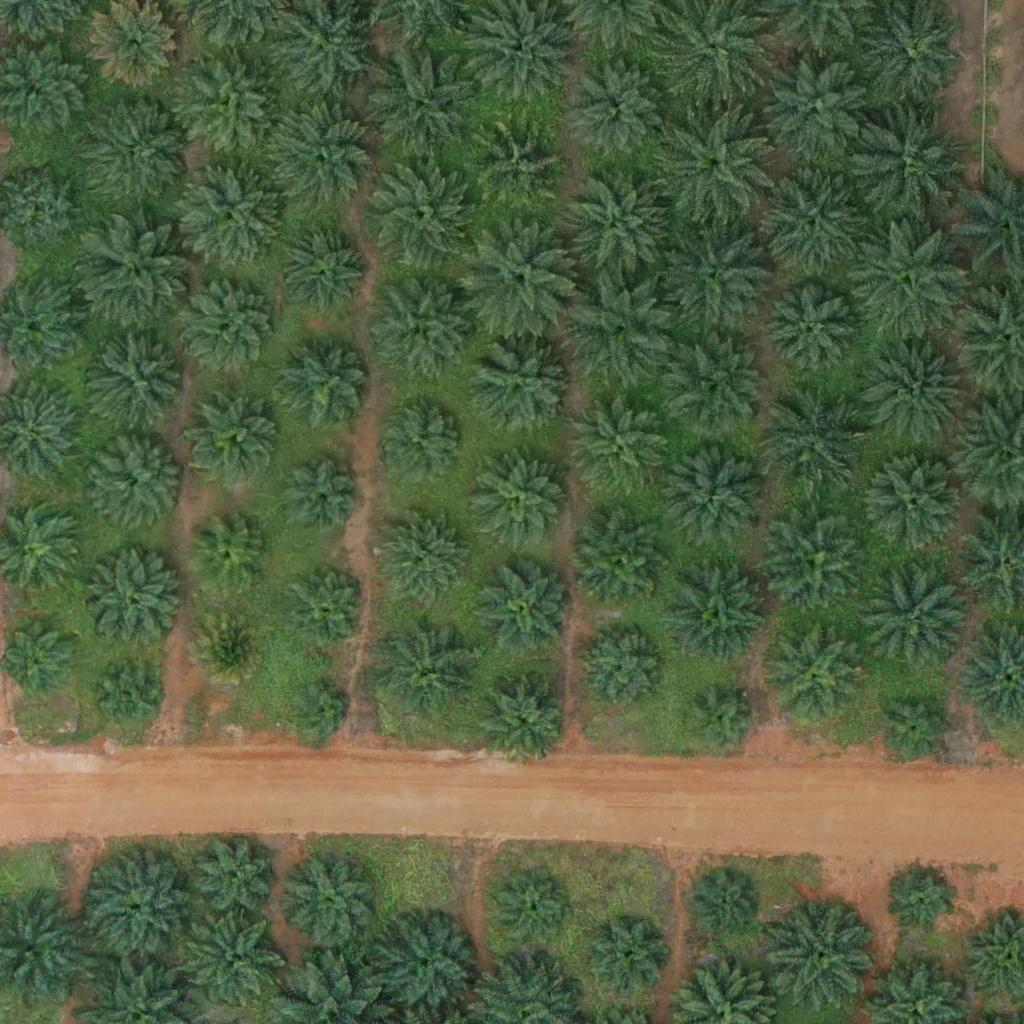Kelapa_Sawit: (658, 110, 771, 223), (657, 215, 770, 328), (560, 164, 673, 277), (856, 110, 968, 224), (853, 224, 965, 337), (757, 169, 869, 282), (566, 271, 678, 384), (464, 220, 576, 333), (363, 159, 475, 272), (759, 54, 871, 167), (367, 46, 479, 159), (85, 222, 197, 335), (864, 341, 964, 442), (865, 454, 965, 555), (865, 563, 965, 664), (764, 386, 864, 487), (766, 512, 866, 613), (766, 624, 866, 725), (672, 336, 772, 437), (666, 444, 766, 545), (667, 566, 767, 667), (573, 393, 673, 494), (572, 510, 672, 611), (471, 335, 571, 436), (470, 451, 570, 552), (374, 279, 474, 380), (271, 101, 371, 202), (182, 52, 282, 153), (91, 98, 191, 199), (85, 853, 185, 954), (775, 903, 875, 1004), (864, 2, 964, 102), (473, 668, 573, 768), (379, 618, 479, 718), (181, 164, 281, 264), (179, 275, 279, 375), (89, 432, 189, 532), (85, 550, 185, 650), (184, 910, 284, 1010), (374, 916, 474, 1016), (474, 121, 562, 210), (578, 624, 666, 712), (192, 395, 280, 483), (95, 335, 183, 423), (766, 288, 853, 376), (483, 564, 570, 652), (377, 395, 464, 483), (379, 507, 466, 595), (276, 225, 363, 313), (282, 344, 369, 432), (575, 64, 662, 152), (190, 831, 277, 919), (284, 857, 371, 945), (192, 520, 267, 596), (282, 459, 357, 535), (495, 874, 570, 950), (684, 683, 759, 759), (289, 568, 364, 644), (193, 609, 268, 685), (91, 658, 166, 734), (592, 918, 667, 993), (880, 691, 955, 766), (1, 617, 76, 692), (693, 872, 756, 935), (291, 681, 353, 744), (893, 870, 955, 933)
